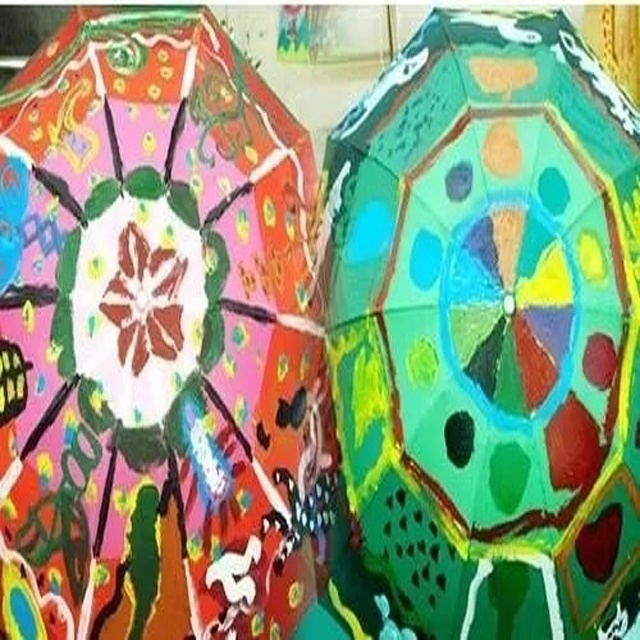umbrella: (1, 4, 335, 640), (326, 1, 640, 640)
